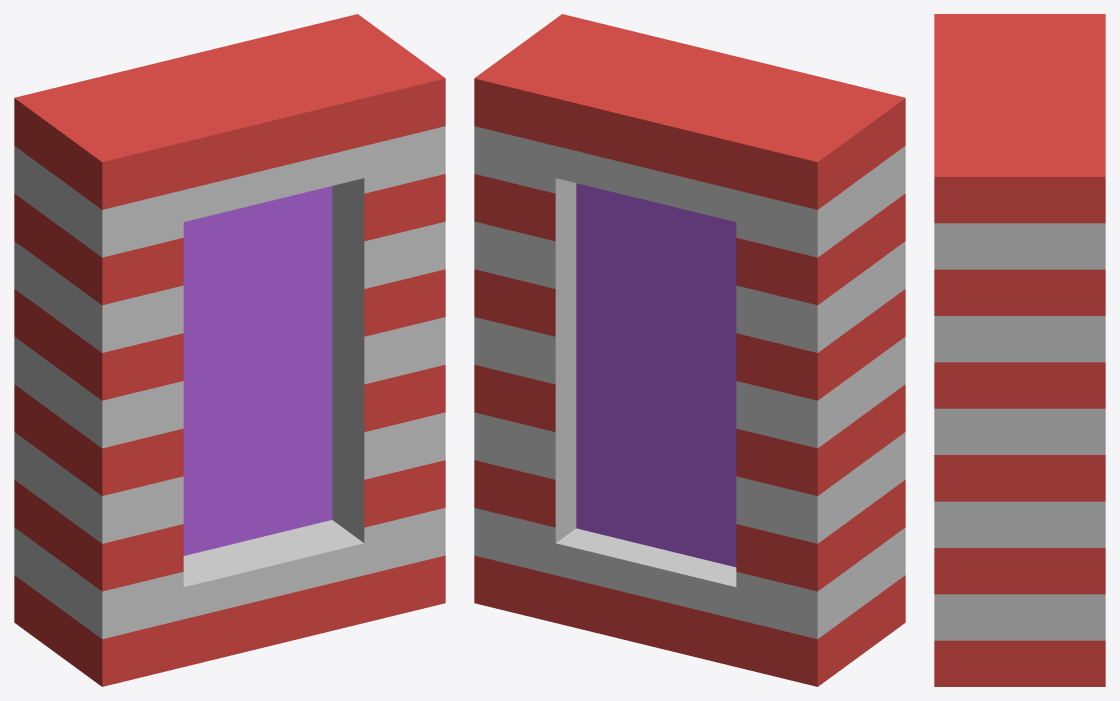
File: Portal.fbx
The picture shows the model from 3 angles, left to right: view 1: azimuth 30°, elevation 25°; view 2: azimuth 150°, elevation 25°; view 3: azimuth 270°, elevation 25°; orthographic projection. The views are drawn at different scales.
Visible parts, largest first — view 1: Cube_2, Cube, Cube_1; view 2: Cube_2, Cube, Cube_1; view 3: Cube_2.
Part boxes in pixels (box(x1,y1,x2,y2)): Cube_2: box(14, 14, 445, 686); Cube: box(183, 186, 332, 555); Cube_1: box(183, 178, 364, 586); Cube_2: box(474, 14, 905, 686); Cube: box(576, 183, 736, 567); Cube_1: box(555, 178, 736, 586); Cube_2: box(934, 14, 1105, 686).
Bounding box in the file's own units: 353 × 516 × 156.
